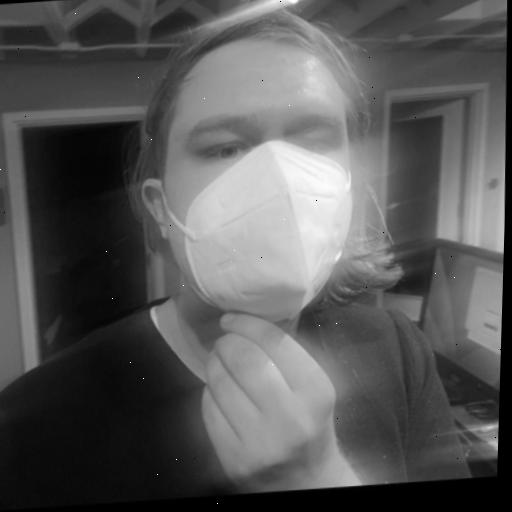mask: (109, 0, 422, 344)
